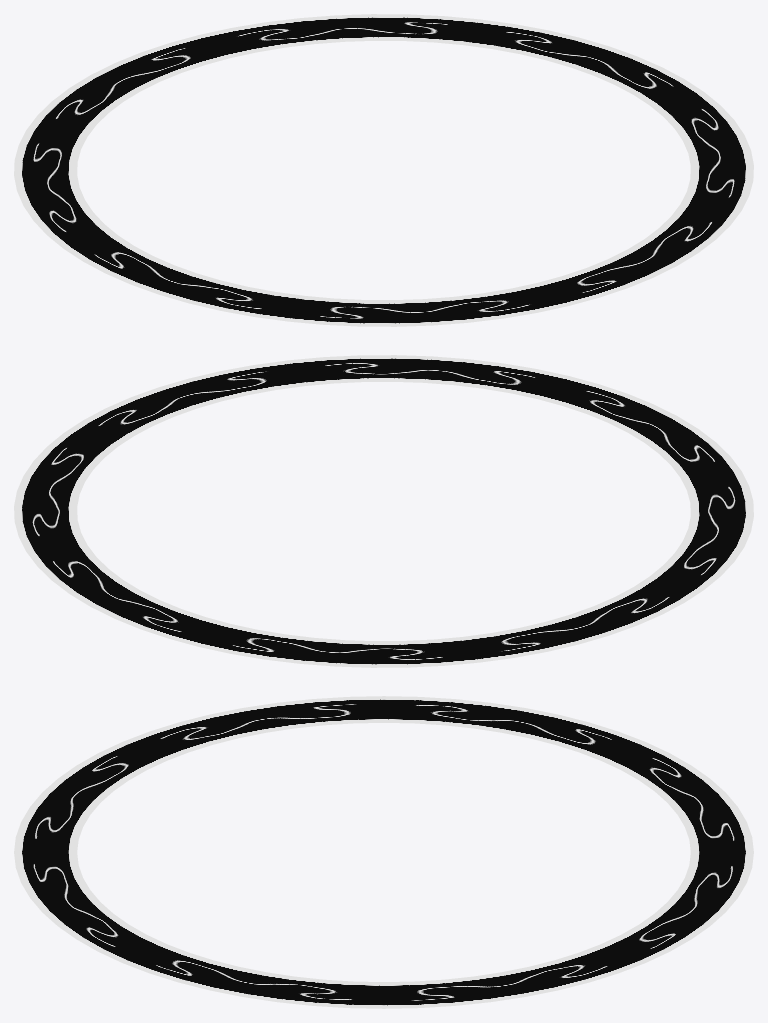
The model's file is ornament.fbx.
The picture shows the model from 3 angles, top to bottom: view 1: azimuth 30°, elevation 25°; view 2: azimuth 150°, elevation 25°; view 3: azimuth 270°, elevation 25°; orthographic projection.
Visible parts, largest first — view 1: CageRing; view 2: CageRing; view 3: CageRing.
Part boxes in pixels (left/top/right/bottom): CageRing: left=14, top=14, right=753, bottom=326; CageRing: left=14, top=355, right=753, bottom=667; CageRing: left=14, top=696, right=753, bottom=1008.
Bounding box in the file's own units: 200 × 0 × 200.
Materials: 1 (1 with a texture image).
